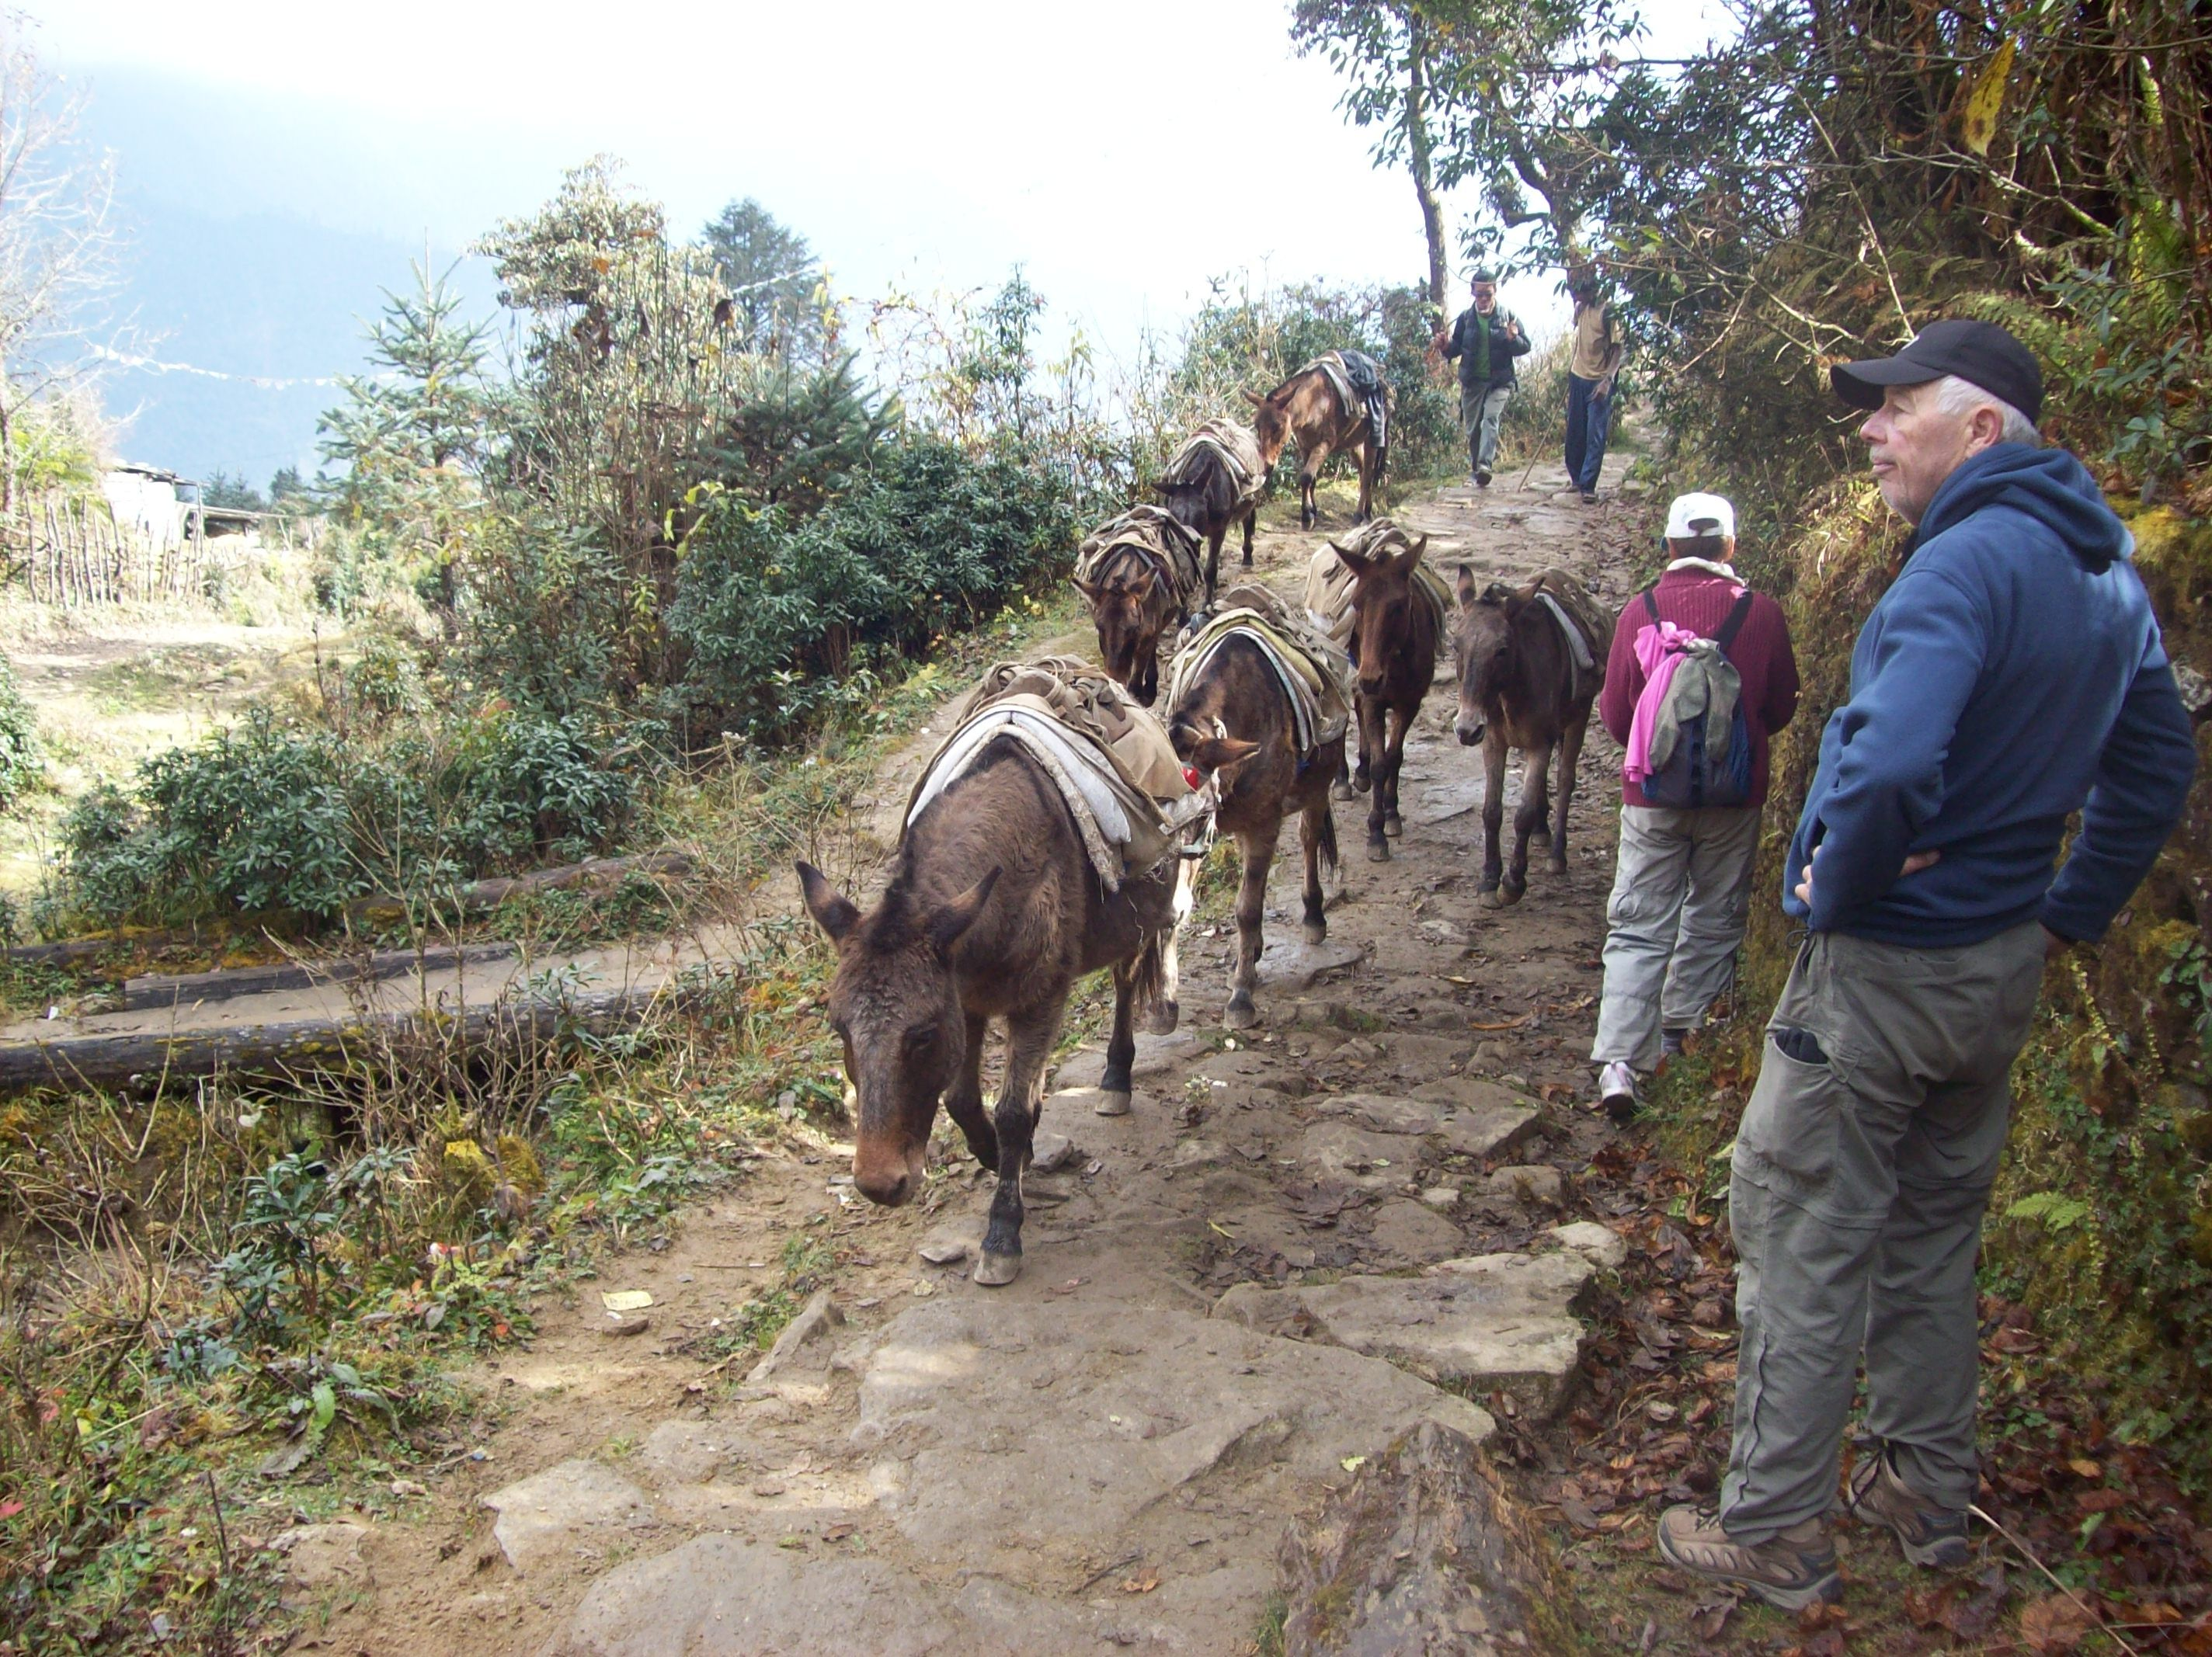equine: (777, 637, 1212, 1266), (1130, 593, 1375, 1045), (1417, 559, 1637, 918), (1273, 503, 1461, 878), (1215, 322, 1411, 544), (1056, 485, 1226, 702), (1147, 400, 1278, 565)
human: (1620, 304, 2212, 1641), (1591, 469, 1822, 1114), (1401, 252, 1549, 505), (1534, 266, 1650, 521)
